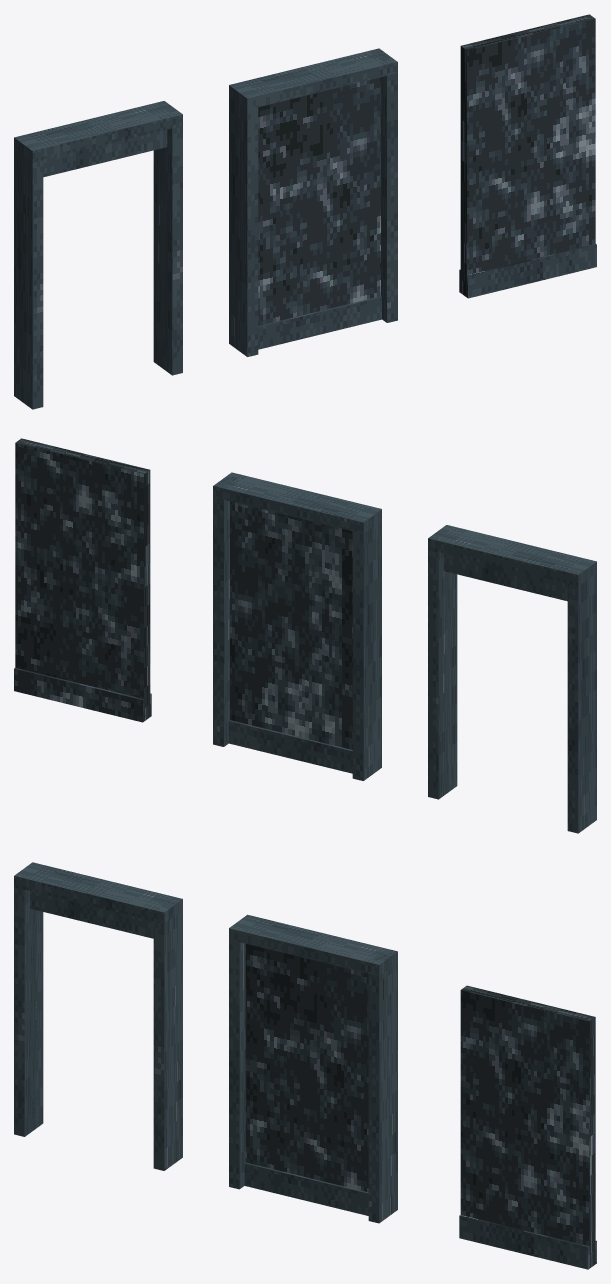
File: Doors.fbx
3 renders of one model, top to bottom at view 1: azimuth 30°, elevation 25°; view 2: azimuth 150°, elevation 25°; view 3: azimuth 330°, elevation 25°, orthographic.
Parts seen in each view (by area): view 1: Door Closed, Door without Frame, Door Open; view 2: Door Closed, Door without Frame, Door Open; view 3: Door Closed, Door without Frame, Door Open.
Boxes of the visible parts, bbox=[...] form: Door Closed: bbox=[229, 48, 397, 356]; Door without Frame: bbox=[459, 14, 596, 298]; Door Open: bbox=[14, 101, 182, 409]; Door Closed: bbox=[213, 472, 381, 780]; Door without Frame: bbox=[14, 438, 151, 722]; Door Open: bbox=[428, 525, 596, 833]; Door Closed: bbox=[229, 914, 397, 1223]; Door without Frame: bbox=[459, 985, 596, 1269]; Door Open: bbox=[14, 862, 182, 1170].
Size of the model in its own units: 1027 by 58.14 by 446.
2 materials, 2 textured.
